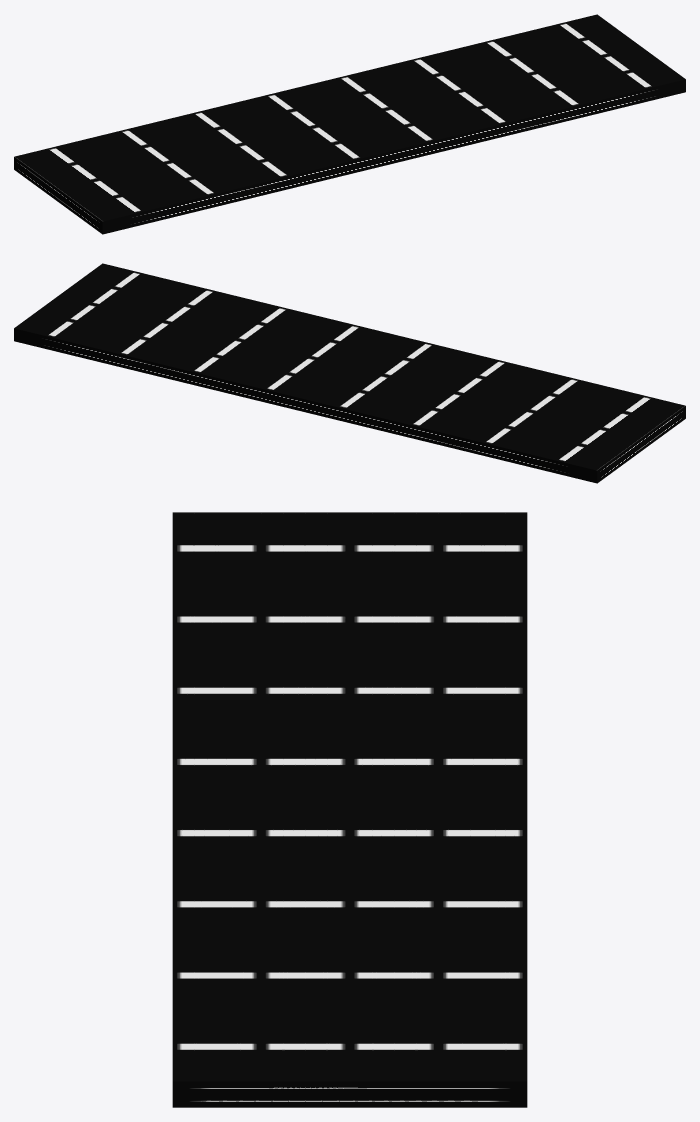
Rendered from recta8ud.fbx.
3 renders of one model, top to bottom at view 1: azimuth 30°, elevation 25°; view 2: azimuth 150°, elevation 25°; view 3: azimuth 270°, elevation 25°, orthographic. The views are drawn at different scales.
Visible parts, largest first — view 1: Road01; view 2: Road01; view 3: Road01.
Boxes of the visible parts, <box> form: Road01: <box>14,14,685,234</box>; Road01: <box>14,263,685,483</box>; Road01: <box>172,512,527,1107</box>.
Bounding box in the file's own units: 946 × 20 × 249.
